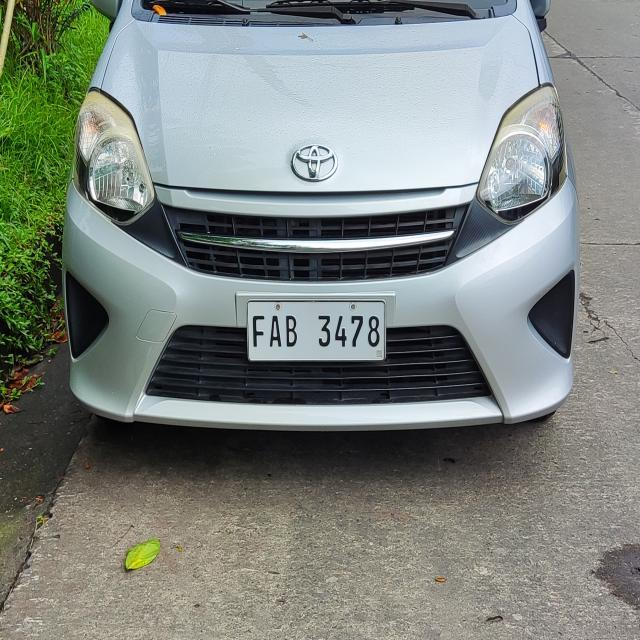LicensePlate: (248, 299, 389, 365)
